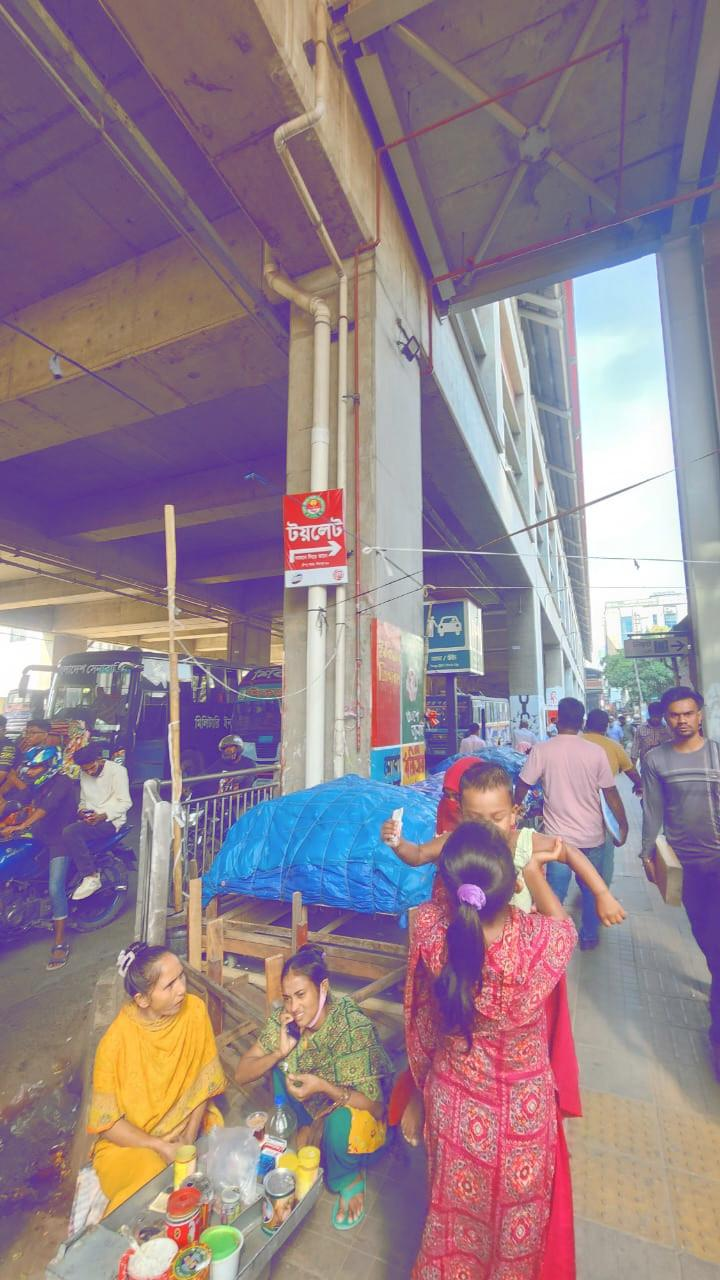Metro Dorp Up Pick up: (417, 599, 484, 669)
